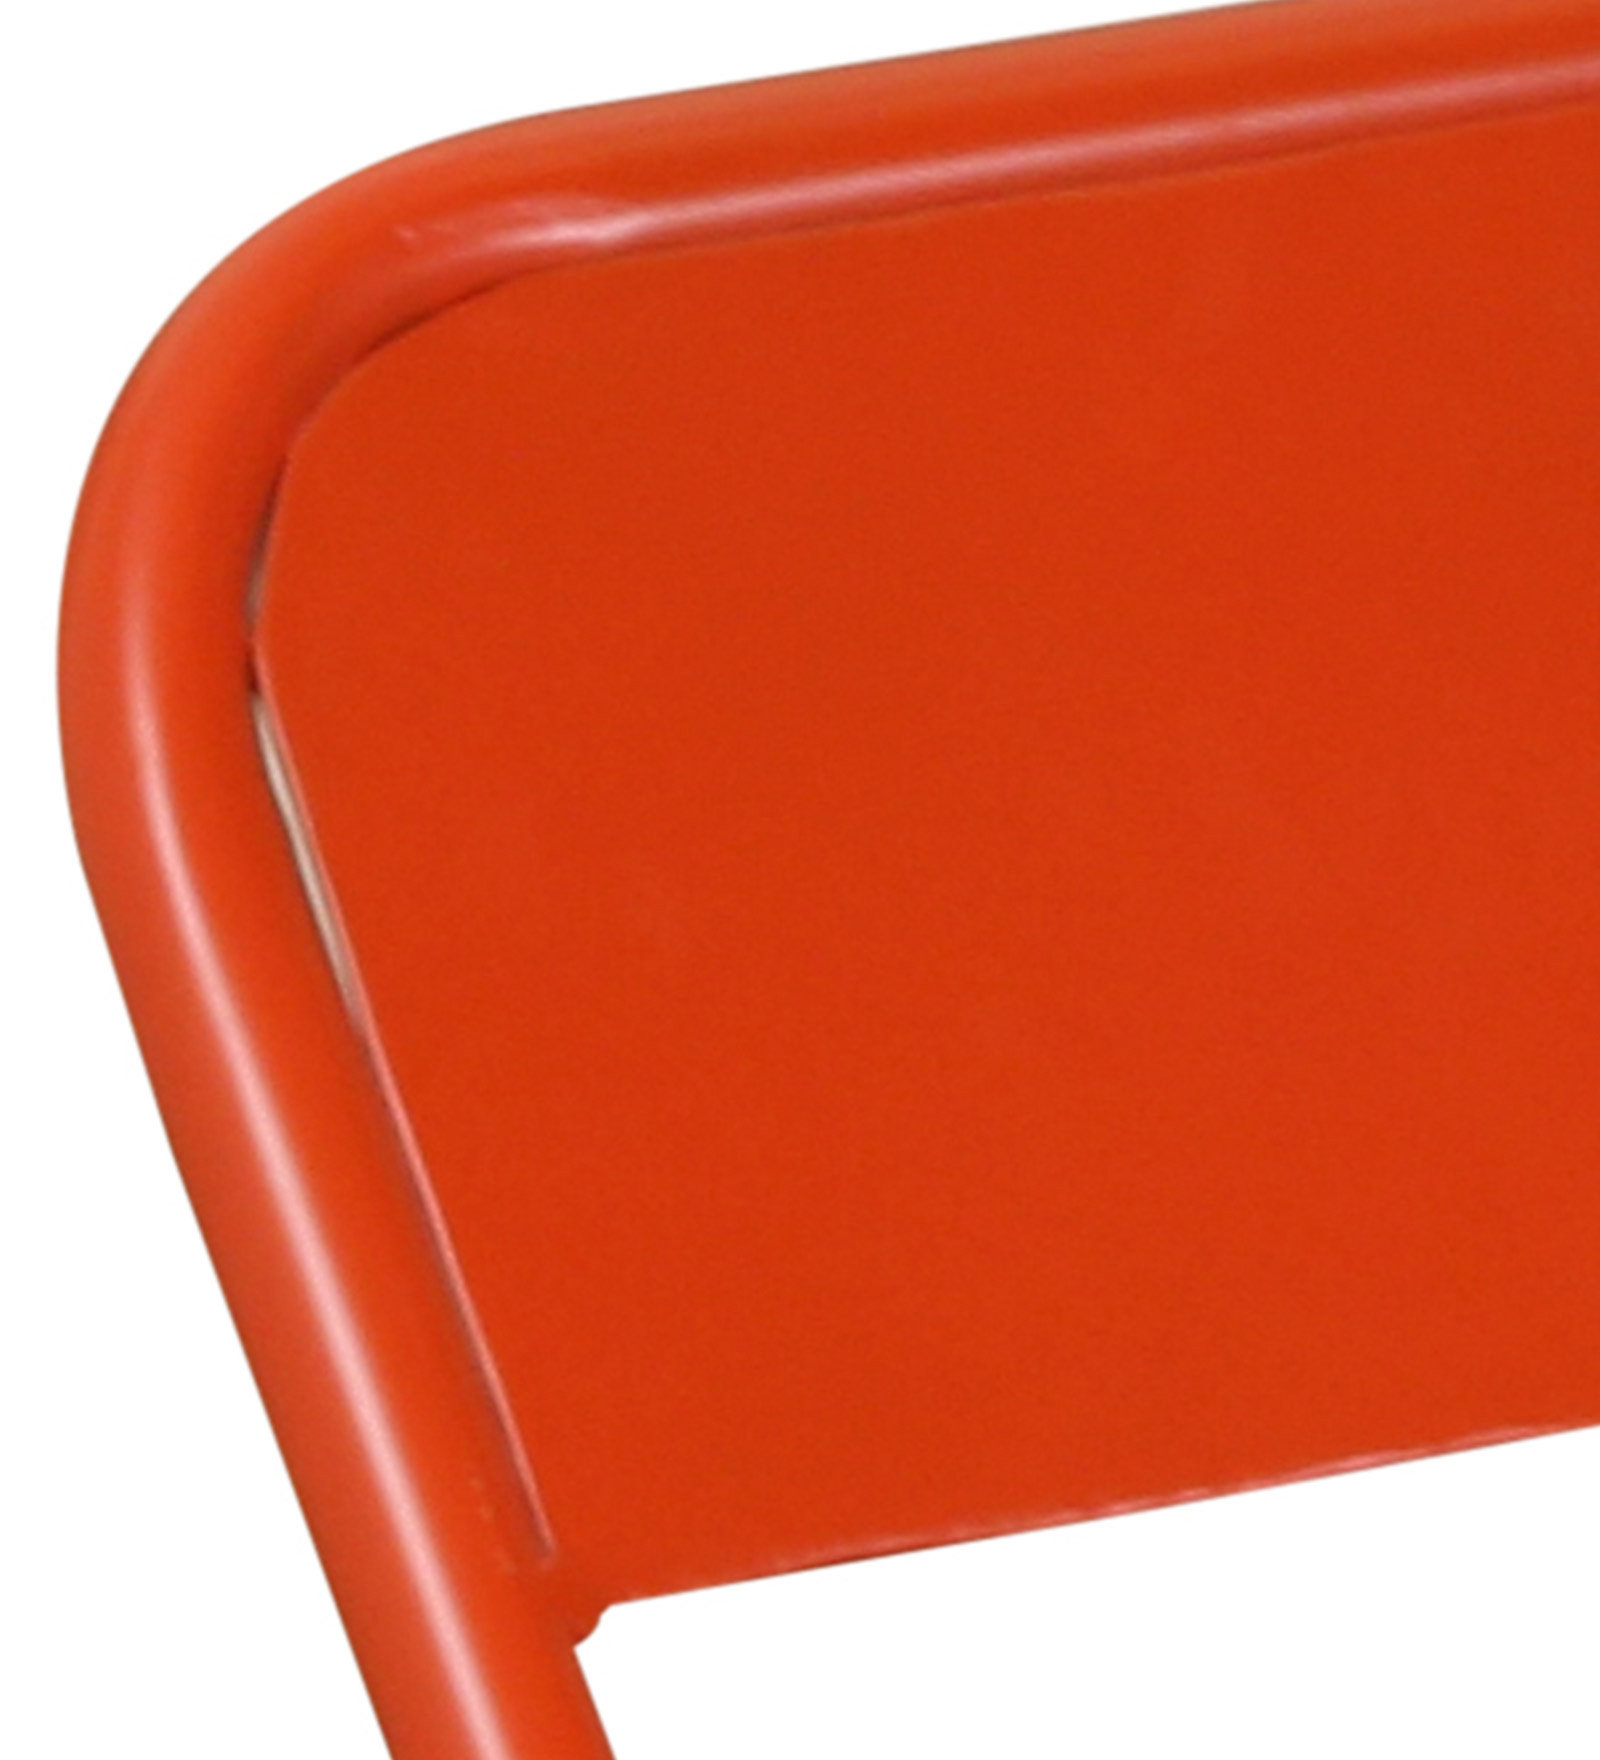Kell Folding Chair in Orange Color by Bohemiana: (28, 9, 1600, 1754)
